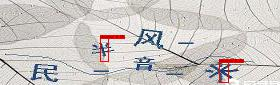chinese: (135, 25, 170, 51), (204, 58, 240, 81), (30, 61, 65, 83), (90, 38, 115, 60), (134, 58, 160, 76)
